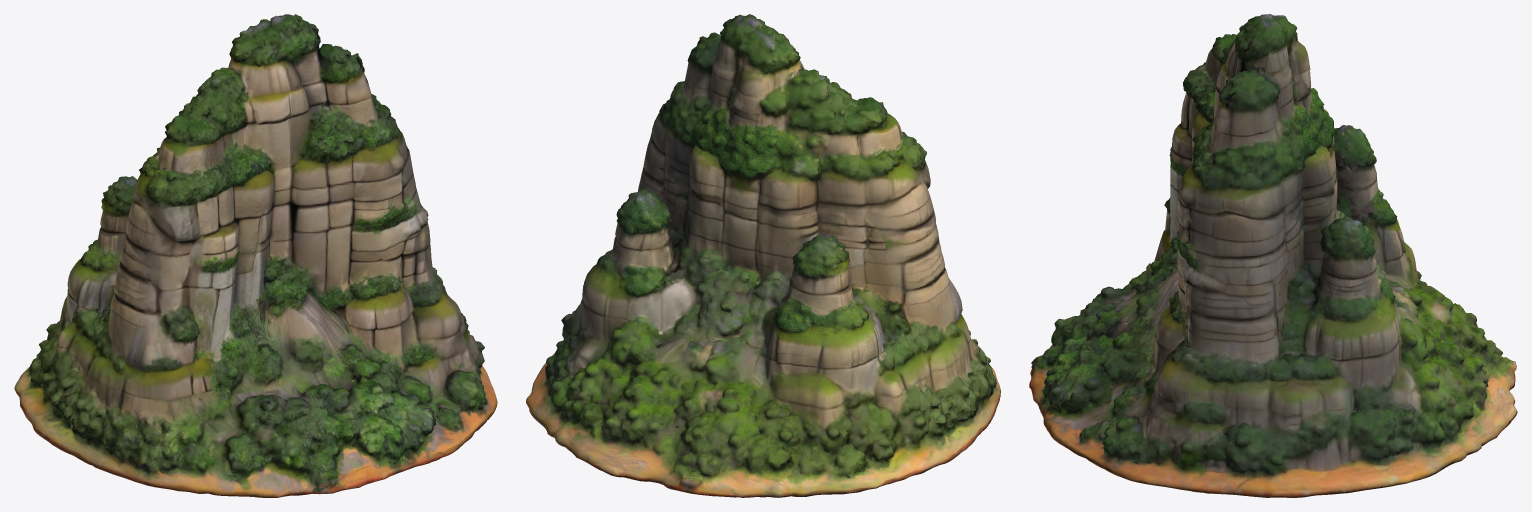
File: Majestic_Rock_Formati.glb
The picture shows the model from 3 angles, left to right: view 1: azimuth 30°, elevation 25°; view 2: azimuth 150°, elevation 25°; view 3: azimuth 270°, elevation 25°; orthographic projection. The views are drawn at different scales.
Parts seen in each view (by area): view 1: Majestic_Rock_Formati; view 2: Majestic_Rock_Formati; view 3: Majestic_Rock_Formati.
Part boxes in pixels (x1,y1,x2,y2): Majestic_Rock_Formati: (14, 14, 497, 497); Majestic_Rock_Formati: (526, 14, 1000, 497); Majestic_Rock_Formati: (1029, 14, 1517, 497).
Size of the model in its own units: 1.9 by 1.69 by 1.91.
1 material, 1 textured.
